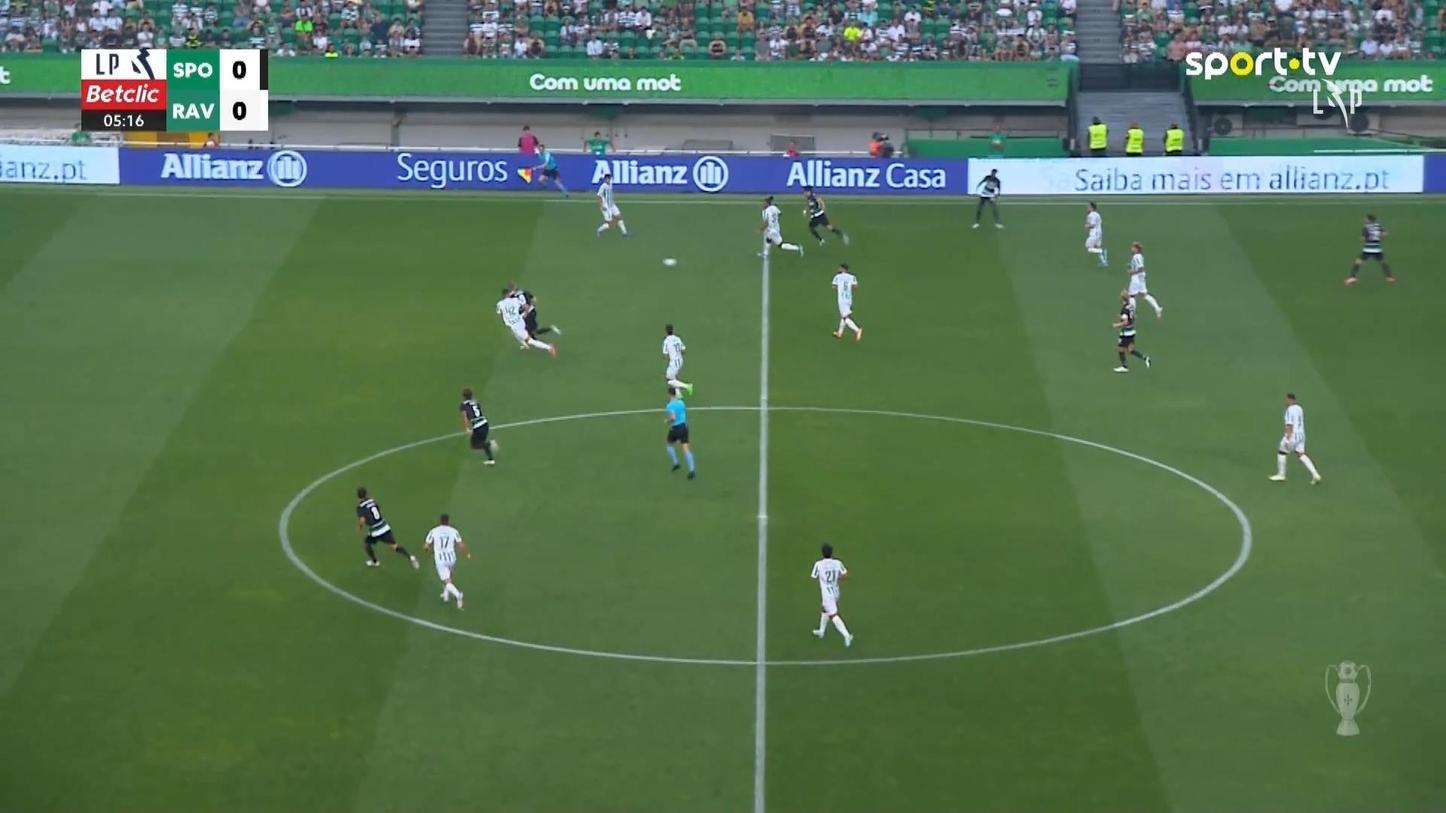ball: (663, 257, 676, 266)
player: (354, 486, 419, 570), (495, 280, 560, 358), (1268, 391, 1321, 484), (422, 512, 471, 610), (809, 542, 853, 647), (1344, 212, 1396, 285), (1112, 289, 1151, 372), (755, 194, 804, 259), (459, 387, 499, 465), (801, 184, 850, 247), (1124, 241, 1163, 318), (660, 323, 694, 397), (830, 262, 862, 340), (594, 171, 629, 237), (971, 168, 1004, 229), (1083, 200, 1108, 266)
referee: (662, 385, 696, 480), (518, 142, 569, 197)
